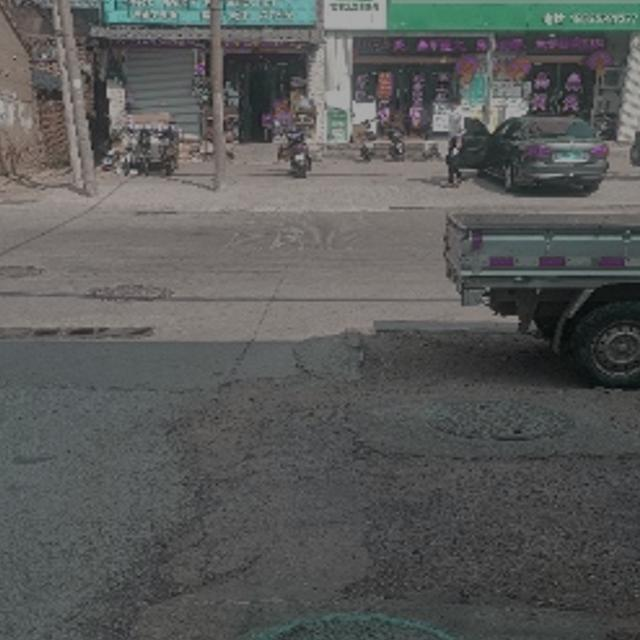good: (212, 611, 513, 640)
